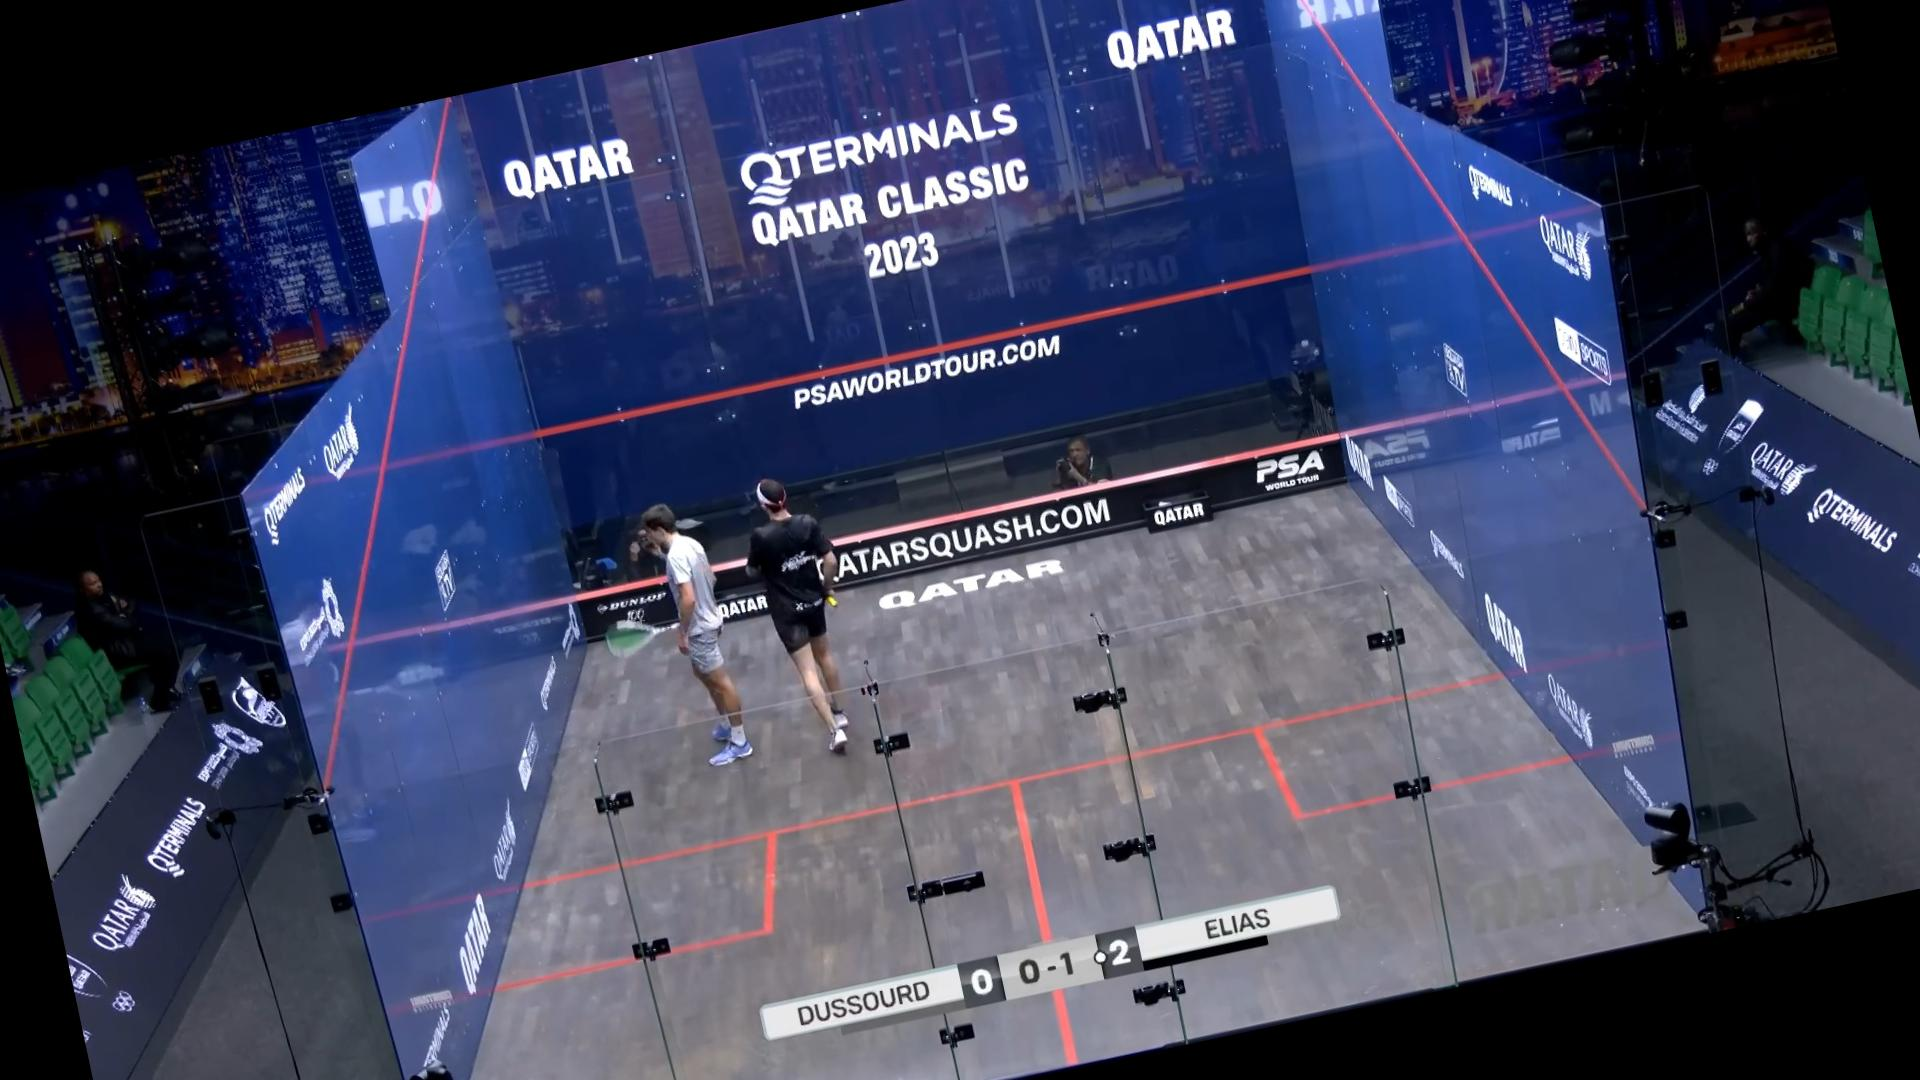Racket: (597, 604, 686, 663)
